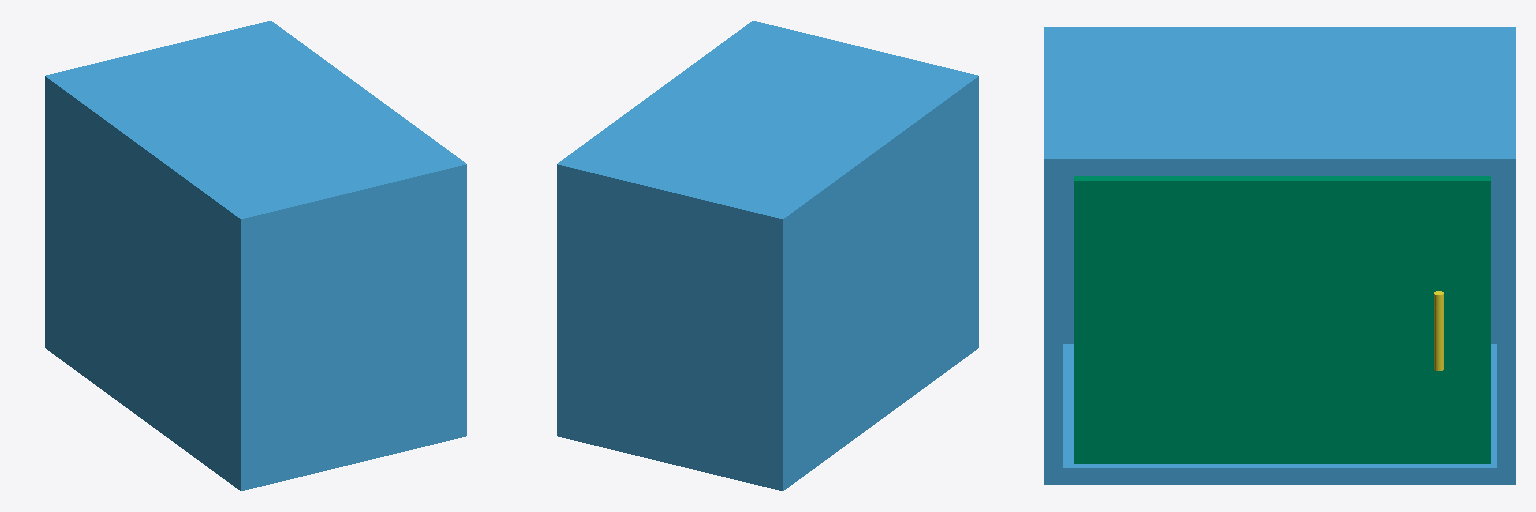
The robot description file, URDF, robot "my_cabinet":
<?xml version="1.0" ?>
<robot name="my_cabinet">
	<link name="world"/>
	<joint name="virtual_joint" type="fixed">
		<parent link="world"/>
		<child link="base_cabinet_link"/>
		<origin xyz="0.0 0.0 0.0" rpy="0.0 0.0 0.0"/>
	</joint>
	<link name="base_cabinet_link">
		<visual>
			<origin xyz="0.0 -0.0025 -0.16314340414838657" rpy="0.0 0.0 0.0"/>
			<geometry>
				<box size="0.3 0.4505285339422474 0.018"/>
			</geometry>
		</visual>
		<collision name="base_cabinet_link_collision_0">
			<origin xyz="0.0 -0.0025 -0.16314340414838657" rpy="0.0 0.0 0.0"/>
			<geometry>
				<box size="0.3 0.4505285339422474 0.018"/>
			</geometry>
		</collision>
		<visual>
			<origin xyz="0.0 0.21376426697112372 0.0" rpy="0.0 0.0 0.0"/>
			<geometry>
				<box size="0.3 0.018 0.34428680829677316"/>
			</geometry>
		</visual>
		<collision name="base_cabinet_link_collision_1">
			<origin xyz="0.0 0.21376426697112372 0.0" rpy="0.0 0.0 0.0"/>
			<geometry>
				<box size="0.3 0.018 0.34428680829677316"/>
			</geometry>
		</collision>
		<visual>
			<origin xyz="0.0 -0.21876426697112372 0.0" rpy="0.0 0.0 0.0"/>
			<geometry>
				<box size="0.3 0.018 0.34428680829677316"/>
			</geometry>
		</visual>
		<collision name="base_cabinet_link_collision_2">
			<origin xyz="0.0 -0.21876426697112372 0.0" rpy="0.0 0.0 0.0"/>
			<geometry>
				<box size="0.3 0.018 0.34428680829677316"/>
			</geometry>
		</collision>
		<visual>
			<origin xyz="0.0 -0.0025 0.16314340414838657" rpy="0.0 0.0 0.0"/>
			<geometry>
				<box size="0.3 0.4505285339422474 0.018"/>
			</geometry>
		</visual>
		<collision name="base_cabinet_link_collision_3">
			<origin xyz="0.0 -0.0025 0.16314340414838657" rpy="0.0 0.0 0.0"/>
			<geometry>
				<box size="0.3 0.4505285339422474 0.018"/>
			</geometry>
		</collision>
		<visual>
			<origin xyz="-0.141 -0.0025 0.0" rpy="0.0 0.0 0.0"/>
			<geometry>
				<box size="0.018 0.4505285339422474 0.34428680829677316"/>
			</geometry>
		</visual>
		<collision name="base_cabinet_link_collision_4">
			<origin xyz="-0.141 -0.0025 0.0" rpy="0.0 0.0 0.0"/>
			<geometry>
				<box size="0.018 0.4505285339422474 0.34428680829677316"/>
			</geometry>
		</collision>
		<inertial>
			<mass value="0.200000"/>
			<inertia ixx="0.005358" ixy="0.0" ixz="0.0" iyy="0.003476" iyz="0.0" izz="0.004883"/>
		</inertial>
	</link>
	<link name="door_link">
		<visual>
			<origin xyz="0.0 -0.1997642669711237 0.0"/>
			<geometry>
				<box size="0.018 0.3995285339422474 0.2982868082967731"/>
			</geometry>
		</visual>
		<collision name="door_link_collision">
			<origin xyz="0.0 -0.1997642669711237 0.0"/>
			<geometry>
				<box size="0.018 0.3995285339422474 0.2982868082967731"/>
			</geometry>
		</collision>
		<inertial>
			<mass value="0.200000"/>
			<inertia ixx="0.004143" ixy="0.0" ixz="0.0" iyy="0.001488" iyz="0.0" izz="0.002666"/>
		</inertial>
	</link>
	<joint name="door_joint" type="revolute">
		<origin xyz="0.141 -0.1997642669711237 0.0" rpy="0.000000 -0.000000 3.141593"/>
		<axis xyz="0 0 1"/>
		<parent link="base_cabinet_link"/>
		<child link="door_link"/>
		<limit effort="50" lower="-1.658062789394613" upper="0" velocity="10"/>
		<dynamics friction="3.5" damping="3.5"/>
	</joint>
	<link name="handle_link">
		<visual>
			<origin xyz="0.0 0.0 0.0" rpy="0.0 0.0 0.0"/>
			<geometry>
				<cylinder length="0.08" radius="0.005"/>
			</geometry>
		</visual>
		<collision name="handle_link_collision_0">
			<origin xyz="0.0 0.0 0.0" rpy="0.0 0.0 0.0"/>
			<geometry>
				<cylinder length="0.08" radius="0.005"/>
			</geometry>
		</collision>
		<visual>
			<origin xyz="-0.01 0.0 0.02" rpy="0.0 1.5707963267948966 0.0"/>
			<geometry>
				<cylinder length="0.02" radius="0.003"/>
			</geometry>
		</visual>
		<collision name="handle_link_collision_1">
			<origin xyz="-0.01 0.0 0.02" rpy="0.0 1.5707963267948966 0.0"/>
			<geometry>
				<cylinder length="0.01" radius="0.003"/>
			</geometry>
		</collision>
		<visual>
			<origin xyz="-0.01 0.0 -0.02" rpy="0.0 1.5707963267948966 0.0"/>
			<geometry>
				<cylinder length="0.02" radius="0.003"/>
			</geometry>
		</visual>
		<collision name="handle_link_collision_2">
			<origin xyz="-0.01 0.0 -0.02" rpy="0.0 1.5707963267948966 0.0"/>
			<geometry>
				<cylinder length="0.02" radius="0.003"/>
			</geometry>
		</collision>
		<inertial>
			<mass value="0.050000"/>
			<inertia ixx="0.000027" ixy="0.0" ixz="0.0" iyy="0.000029" iyz="0.0" izz="0.000003"/>
		</inertial>
	</link>
	<joint name="handle_joint" type="fixed">
		<origin xyz="-0.028999999999999998 -0.3495285339422474 0.0" rpy="0.000000 -0.000000 3.141593"/>
		<parent link="door_link"/>
		<child link="handle_link"/>
	</joint>
	<gazebo reference="base_cabinet_link">
		<sensor name="main_sensor" type="contact">
			<selfCollide>true</selfCollide>
			<alwaysOn>true</alwaysOn>
			<updateRate>5.0</updateRate>
			<material>Gazebo/Red</material>
			<contact>
				<collision>base_cabinet_link_collision_0_collision</collision>
				<collision>base_cabinet_link_collision_1_collision</collision>
				<collision>base_cabinet_link_collision_2_collision</collision>
				<collision>base_cabinet_link_collision_3_collision</collision>
				<collision>base_cabinet_link_collision_4_collision</collision>
			</contact>
			<plugin name="gazebo_ros_bumper_controller" filename="libgazebo_ros_bumper.so">
				<bumperTopicName>/contact</bumperTopicName>
				<frameName>world</frameName>
			</plugin>
		</sensor>
	</gazebo>
	<gazebo reference="door_link">
		<sensor name="main_sensor" type="contact">
			<selfCollide>true</selfCollide>
			<alwaysOn>true</alwaysOn>
			<updateRate>5.0</updateRate>
			<material>Gazebo/Red</material>
			<contact>
				<collision>door_link_collision_collision</collision>
			</contact>
			<plugin name="gazebo_ros_bumper_controller" filename="libgazebo_ros_bumper.so">
				<bumperTopicName>/contact_door</bumperTopicName>
				<frameName>contact_door</frameName>
			</plugin>
		</sensor>
	</gazebo>
	<gazebo reference="door_link">
		<mu>3.0</mu>
		<mu2>3.0</mu2>
		<kp>10000000</kp>
		<kd>100</kd>
	</gazebo>
</robot>

--- What the picture shows (computed from the rendered views, not written in the file) ---
The picture shows the robot from 3 angles, left to right: view 1: azimuth 30°, elevation 25°; view 2: azimuth 150°, elevation 25°; view 3: azimuth 270°, elevation 25°; orthographic projection.
Model my_cabinet with 4 links and 3 joints (1 revolute, 2 fixed), rooted at world, posed all joints at 0.
Links seen in each view (by area): view 1: base_cabinet_link; view 2: base_cabinet_link; view 3: door_link, base_cabinet_link, handle_link.
Link boxes in pixels (left/top/right/bottom): base_cabinet_link: left=45, top=21, right=466, bottom=490; base_cabinet_link: left=557, top=21, right=978, bottom=490; door_link: left=1074, top=176, right=1490, bottom=463; base_cabinet_link: left=1044, top=27, right=1515, bottom=484; handle_link: left=1434, top=291, right=1443, bottom=370.
Bounding box of the posed robot: 0.325 × 0.4505 × 0.3443 m (x, y, z).
Geometry: primitives only (box / cylinder / sphere), no mesh files.
